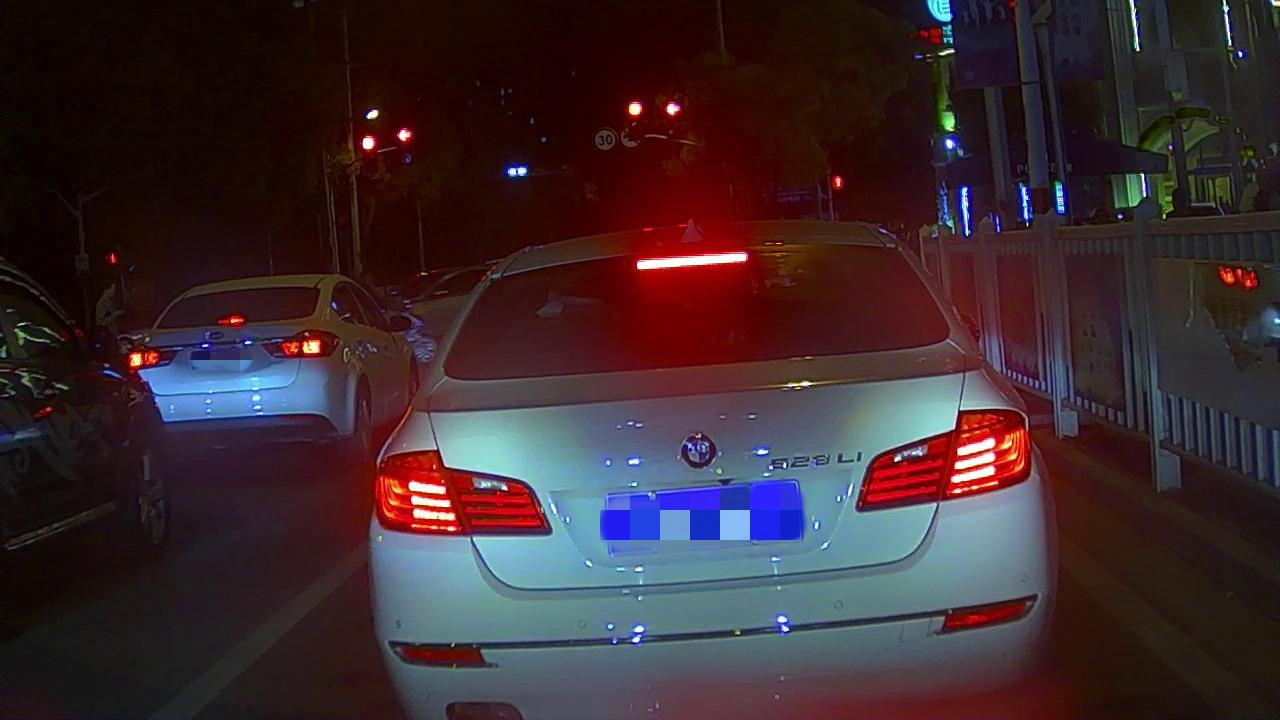traffic_light: (655, 96, 687, 123), (353, 131, 379, 155), (622, 97, 646, 120), (393, 125, 416, 146)
